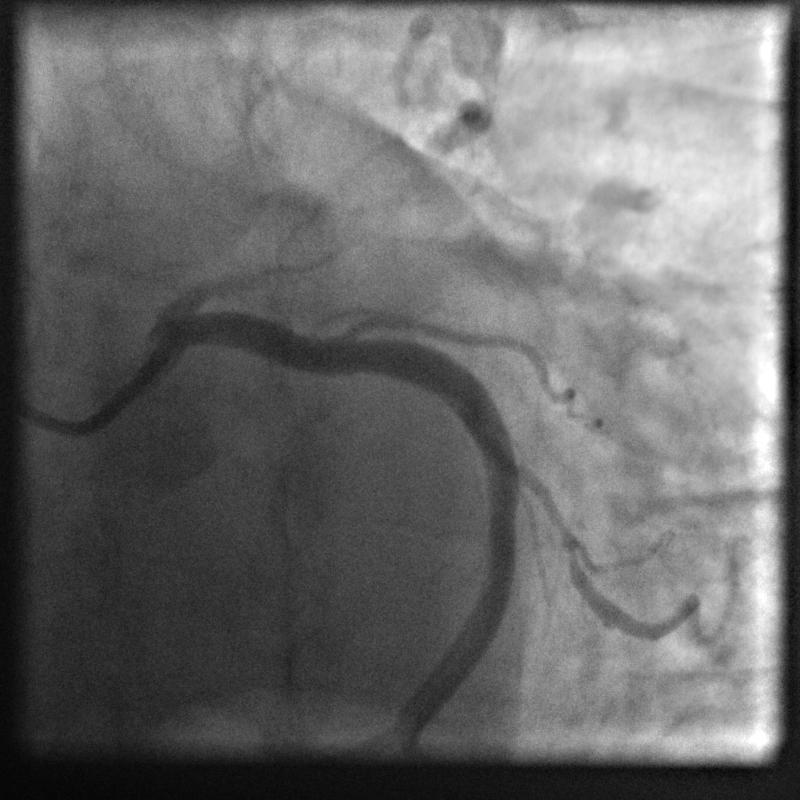Stenosis: (494, 426, 586, 568)
